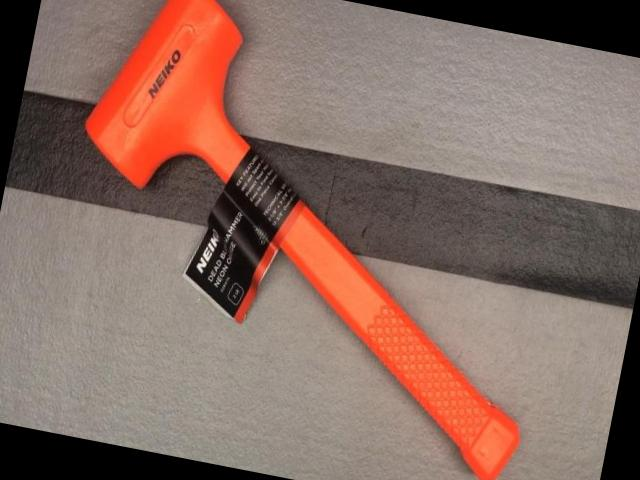hammer: (31, 0, 594, 480)
